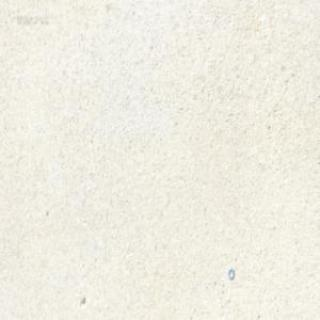Washertrack_idkeyframe: (227, 267, 233, 279)
